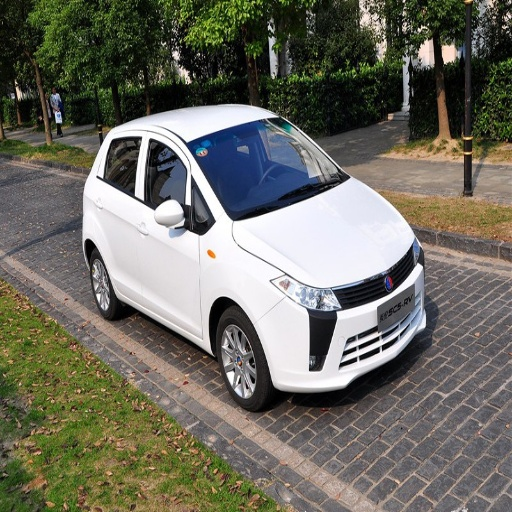front_bumper: (255, 245, 428, 391)
front_right_door: (135, 131, 208, 334)
front_right_light: (270, 269, 335, 309)
